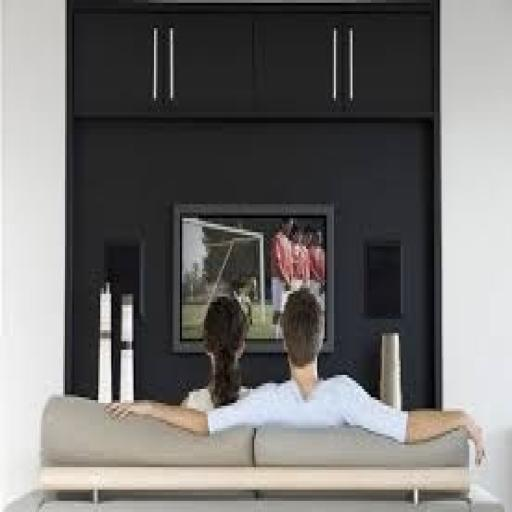sitting: (104, 286, 486, 468)
